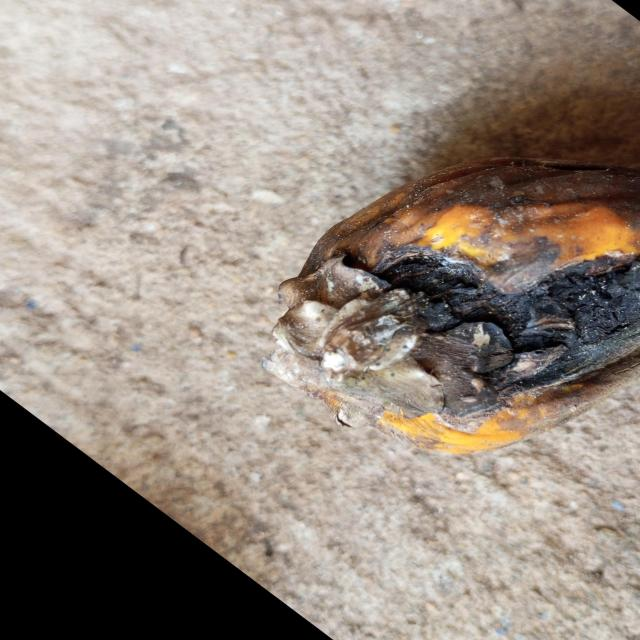damaged: (263, 159, 640, 453)
